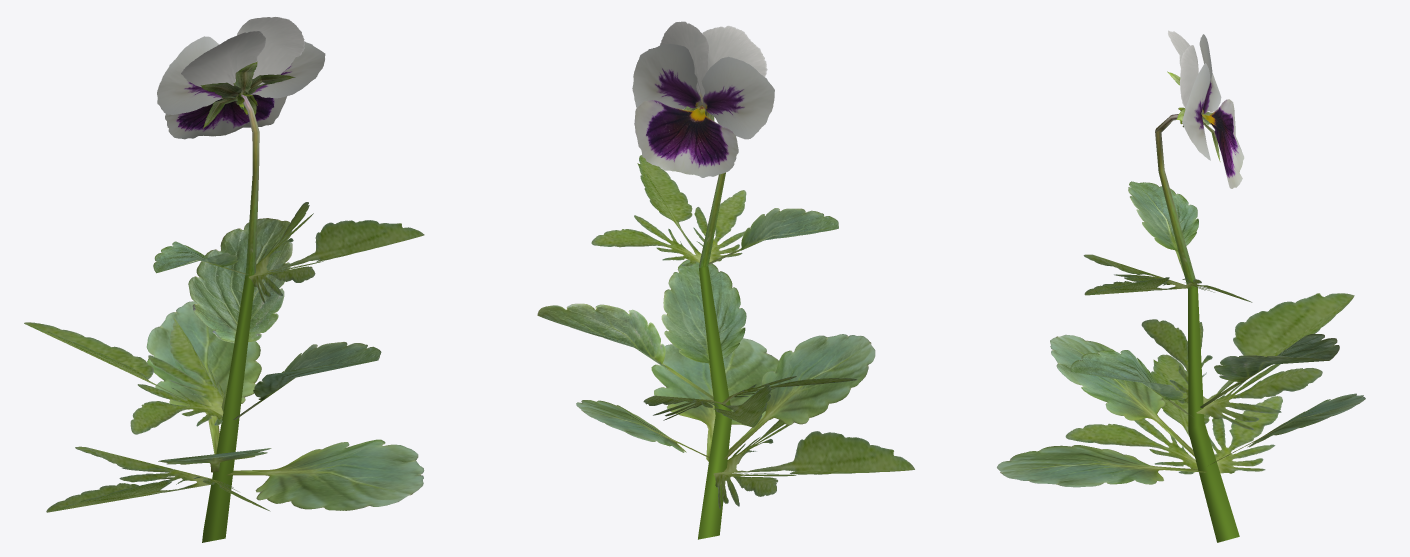
Rendered from Viola1E.fbx.
The picture shows the model from 3 angles, left to right: view 1: azimuth 30°, elevation 25°; view 2: azimuth 150°, elevation 25°; view 3: azimuth 270°, elevation 25°; orthographic projection. The views are drawn at different scales.
Visible parts, largest first — view 1: Viola1E_LOD0; view 2: Viola1E_LOD0; view 3: Viola1E_LOD0.
Boxes of the visible parts, x1,y1,x2,y2 form: Viola1E_LOD0: [24, 17, 424, 542]; Viola1E_LOD0: [537, 21, 914, 539]; Viola1E_LOD0: [997, 30, 1365, 542].
Size of the model in its own units: 36.17 by 50.35 by 39.51.
